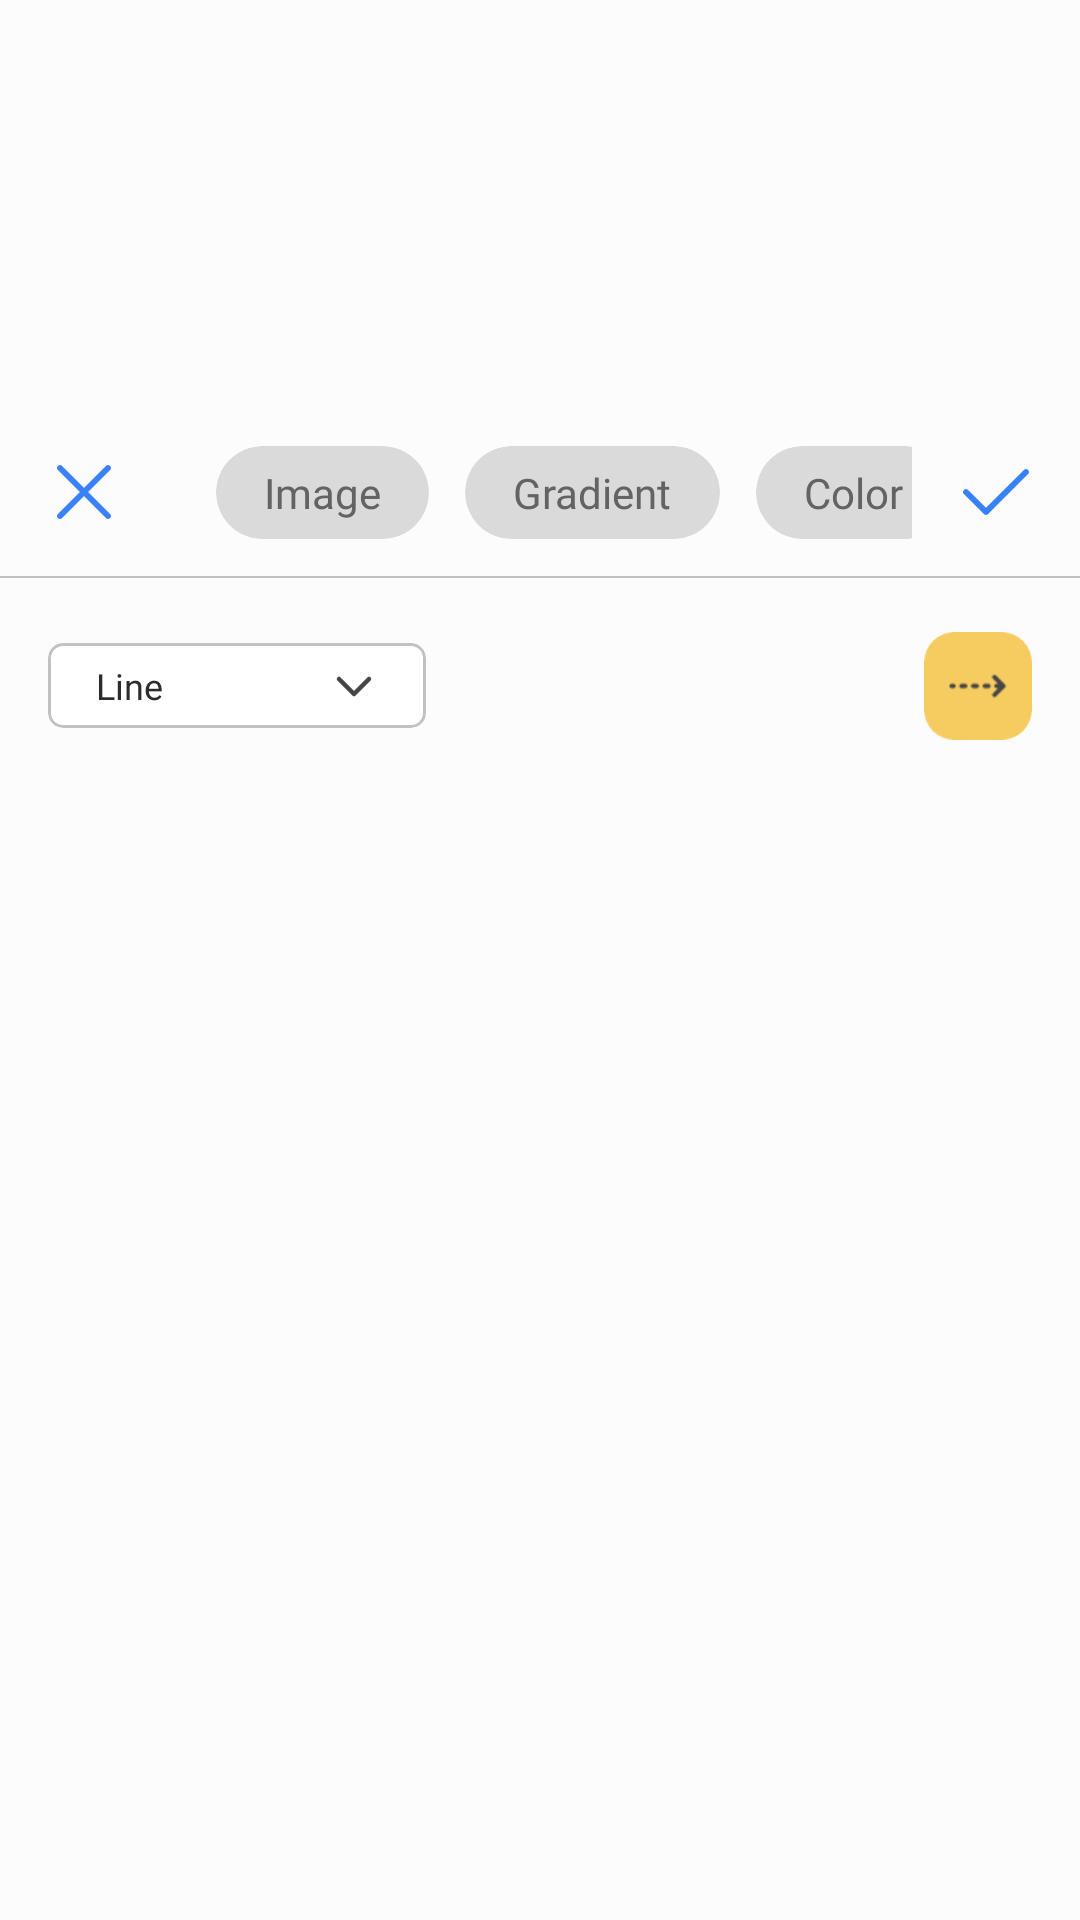

Icons on this 1080x1920 Android screen, each with the point to tap as (x,y):
check: (996,492)
close: (84,492)
horizontal: (978,686)
